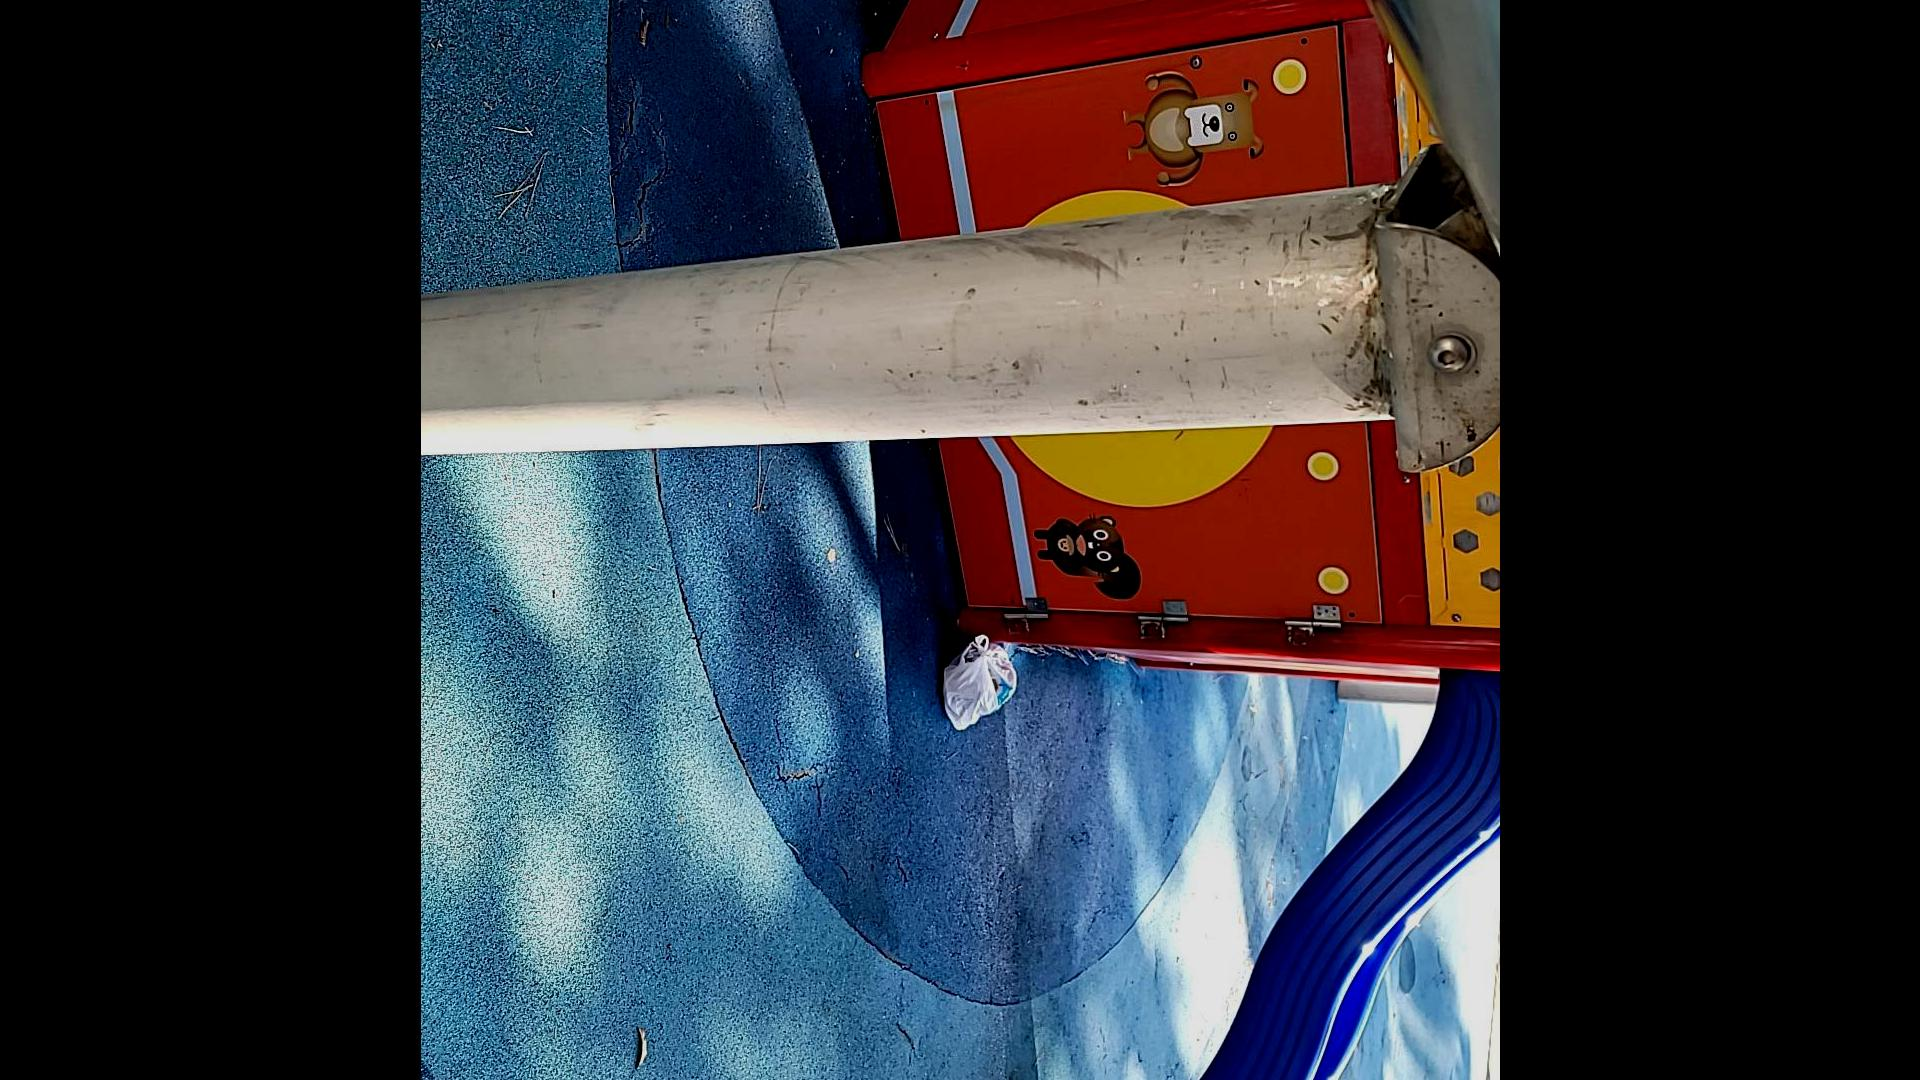white_bag: (934, 628, 1021, 736)
